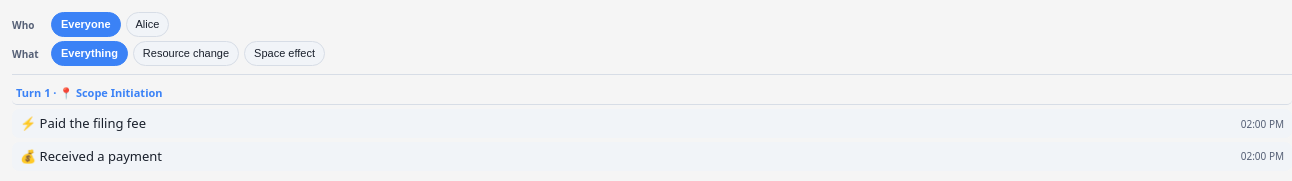
HistoryFeed — the filters are on screen › picking a What chip narrows the feed to that kind of event
Click the button "Resource change" at (186, 54), box [133,41,239,66]
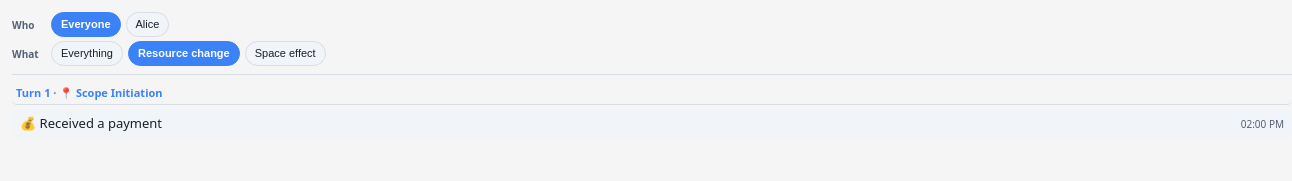
Check: the text "Paid the filing fee" is gone
Check: the text "💰 Received a payment" is shown, box [20,114,162,132]
